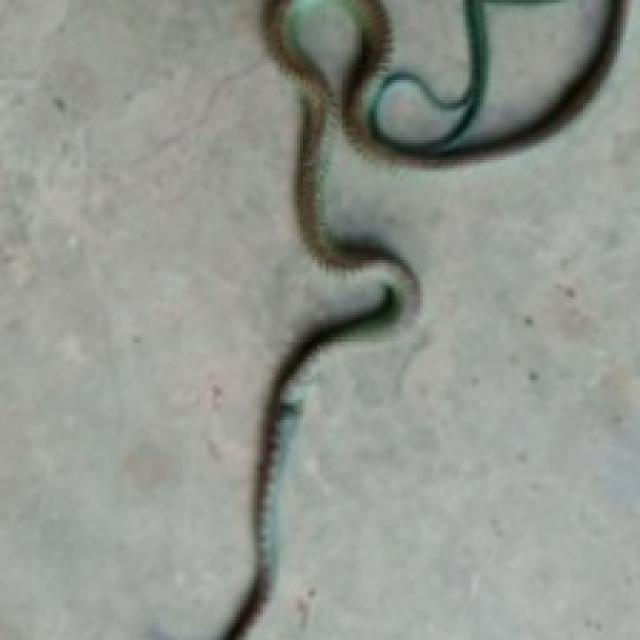paradise tree snake: (0, 0, 394, 637), (246, 0, 637, 637), (249, 0, 637, 637)
